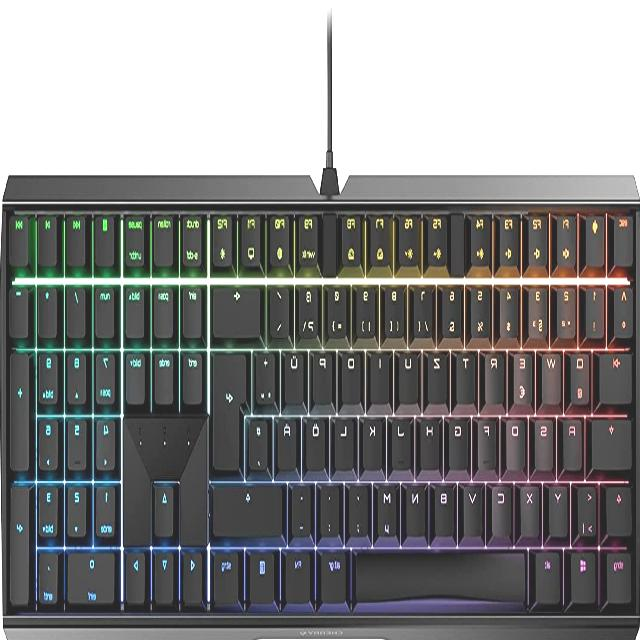0: (327, 278, 349, 336)
1: (586, 279, 606, 337)
2: (557, 279, 579, 337)
3: (528, 278, 550, 338)
4: (499, 279, 521, 337)
5: (469, 279, 493, 339)
6: (441, 278, 464, 338)
7: (413, 278, 437, 338)
8: (384, 278, 408, 340)
9: (355, 278, 379, 338)
a: (564, 412, 584, 468)
accent: (270, 279, 292, 337)
ae: (278, 413, 299, 469)
alt-left: (536, 545, 564, 603)
altgr-right: (321, 544, 349, 602)
b: (435, 477, 457, 533)
c: (493, 478, 513, 534)
caret: (615, 279, 635, 337)
comma: (349, 478, 370, 536)
d: (507, 411, 527, 467)
del: (213, 278, 262, 336)
e: (514, 346, 534, 404)
enter: (213, 345, 251, 471)
f: (479, 412, 498, 466)
g: (450, 412, 470, 466)
h: (422, 411, 442, 467)
hash: (251, 412, 271, 470)
i: (370, 344, 392, 400)
j: (393, 411, 413, 467)
k: (364, 411, 385, 467)
keyboard: (0, 171, 640, 640)
l: (335, 411, 356, 467)
less: (579, 478, 601, 538)
m: (378, 478, 401, 538)
minus: (293, 479, 314, 533)
n: (406, 478, 428, 534)
o: (342, 346, 363, 402)
oe: (307, 412, 328, 468)
p: (314, 346, 334, 402)
plus: (256, 344, 278, 404)
point: (321, 479, 341, 533)
q: (571, 346, 593, 404)
r: (485, 346, 506, 402)
s: (536, 412, 556, 468)
shift-left: (608, 479, 634, 533)
shift-lock: (592, 412, 634, 468)
shift-right: (214, 478, 285, 536)
space: (354, 545, 528, 609)
ss: (298, 278, 322, 340)
strg-left: (608, 544, 634, 602)
strg-right: (213, 544, 243, 604)
t: (457, 346, 478, 402)
tab: (600, 345, 634, 401)
u: (399, 345, 421, 403)
ue: (285, 345, 307, 403)
v: (464, 478, 484, 534)
w: (542, 345, 563, 403)
x: (521, 478, 541, 534)
y: (550, 478, 570, 534)
z: (428, 346, 449, 402)
